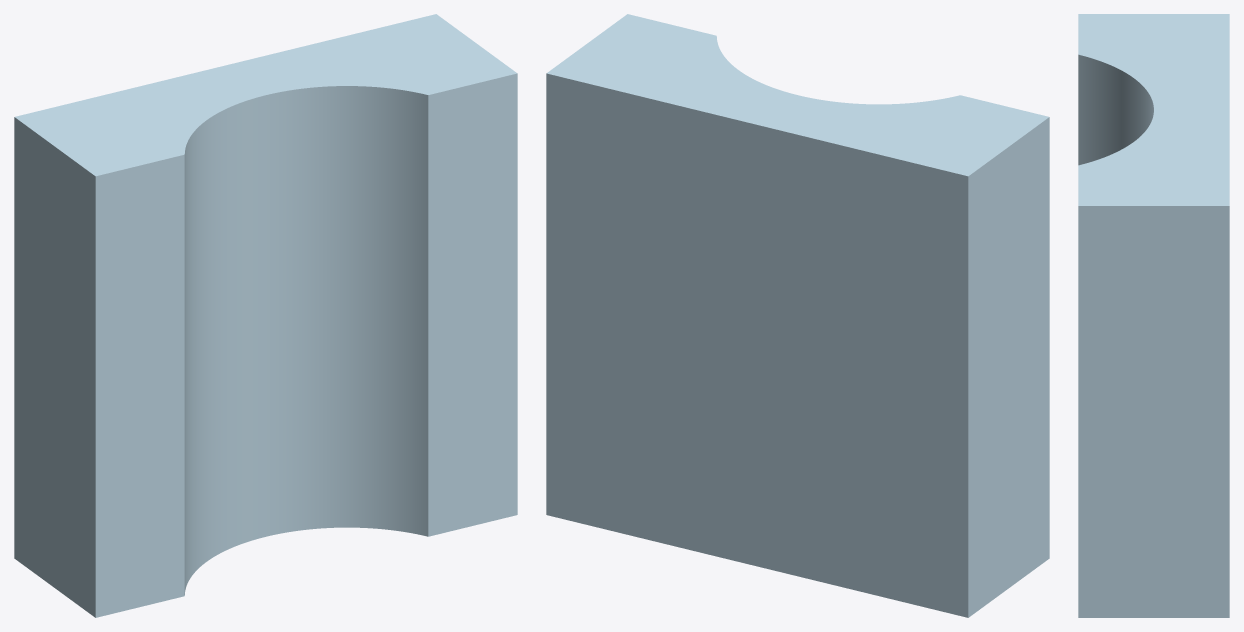
File: alur.gltf
3 views of the same model, side by side, from view 1: azimuth 30°, elevation 25°; view 2: azimuth 150°, elevation 25°; view 3: azimuth 270°, elevation 25° (orthographic). The views are drawn at different scales.
Parts seen in each view (by area): view 1: Part 1; view 2: Part 1; view 3: Part 1.
Boxes of the visible parts, x1,y1,x2,y2 form: Part 1: (14, 14, 517, 617); Part 1: (546, 14, 1049, 617); Part 1: (1078, 14, 1229, 617).
Bounding box in the file's own units: 0.0762 × 0.0762 × 0.0254.
